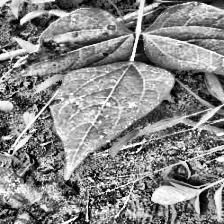ALS: (42, 67, 156, 164), (0, 20, 137, 84), (151, 10, 224, 83)
